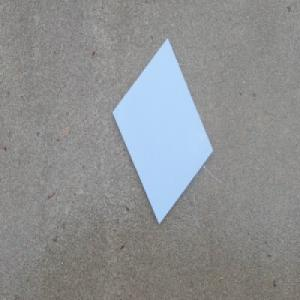PaintChip: (112, 34, 214, 223)
